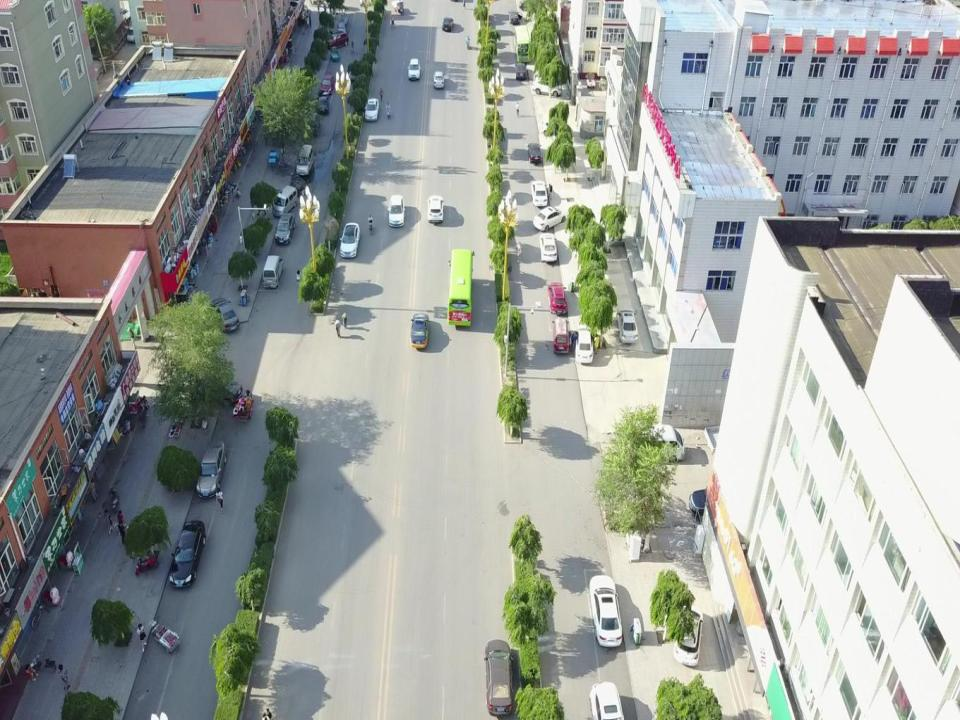bus: (446, 248, 475, 327), (514, 24, 530, 64)
car: (168, 519, 206, 588), (588, 573, 622, 648), (483, 639, 516, 716), (672, 604, 704, 668), (196, 440, 228, 500), (196, 371, 244, 408), (687, 485, 730, 522), (588, 680, 624, 720), (208, 297, 240, 333), (270, 211, 296, 245), (532, 206, 566, 232), (616, 308, 638, 344), (410, 313, 430, 350), (340, 222, 360, 259), (547, 282, 568, 314), (532, 76, 562, 98), (538, 232, 558, 262), (388, 195, 405, 228), (426, 195, 445, 224), (325, 29, 349, 50), (530, 180, 548, 207), (526, 142, 544, 164), (364, 97, 379, 122), (539, 119, 561, 136), (406, 57, 420, 81), (320, 75, 335, 97), (316, 95, 330, 115), (515, 61, 527, 81), (508, 10, 522, 25), (433, 70, 444, 88), (442, 17, 454, 32)
van: (633, 423, 686, 464), (570, 324, 596, 364), (272, 185, 298, 218), (262, 254, 284, 289), (552, 317, 570, 354), (295, 144, 314, 178), (305, 111, 321, 137), (337, 14, 349, 36)
